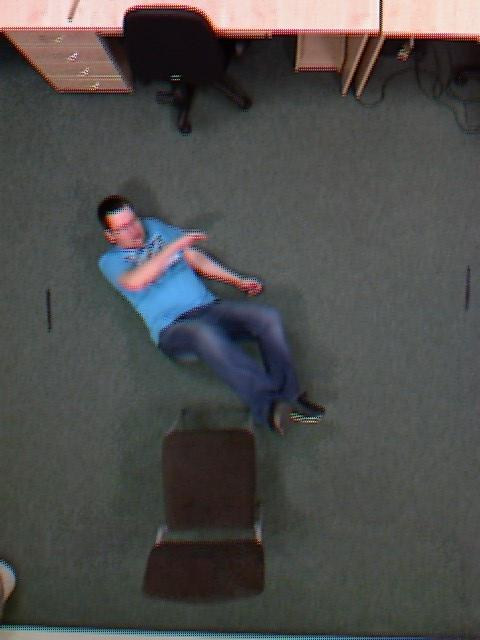fall: (113, 141, 302, 483)
